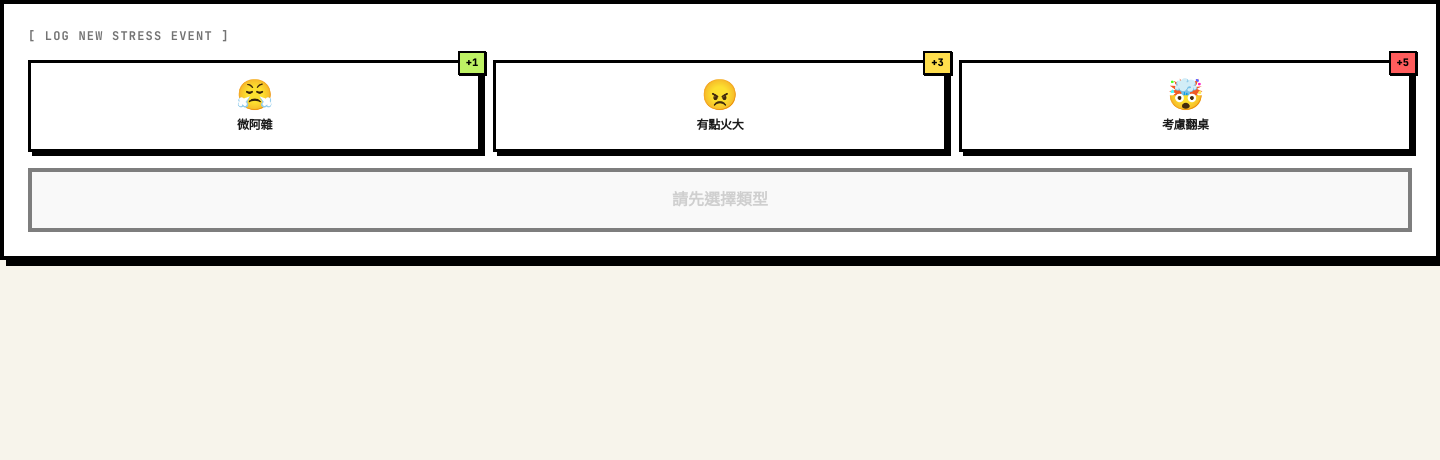
Test case: AddPointsPanel.vue › enables submit and shows examples when category is selected
Step 1. Click the button with id "add-points-minor" → [255, 106], box [28,60,481,152]
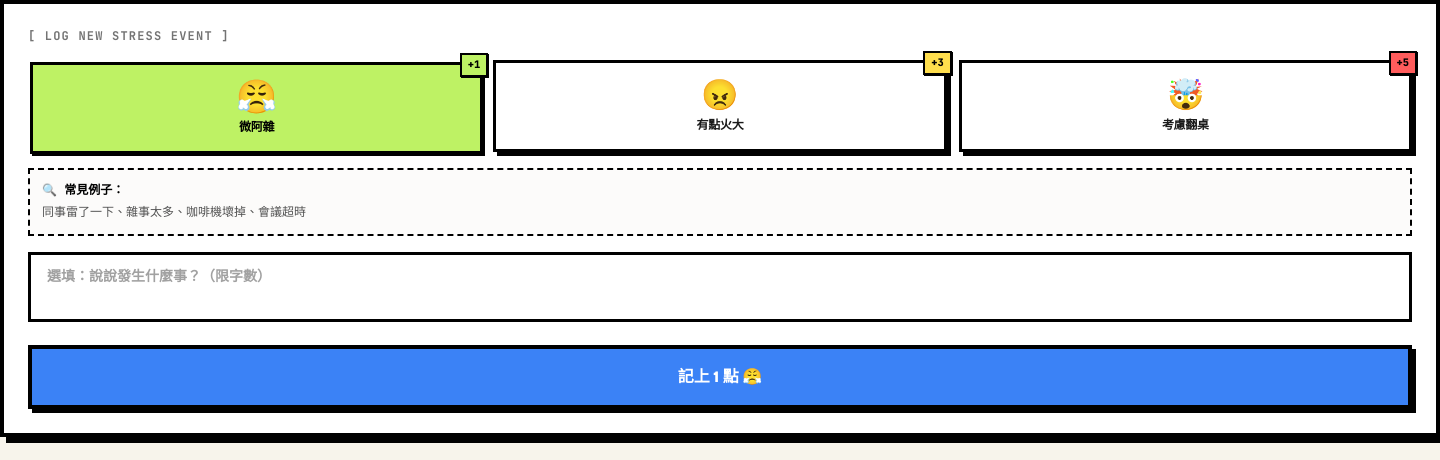
expect the button with id "submit-points-btn" is enabled: met, box [28,344,1412,408]
expect the text "常見例子：" is shown: met, box [42,182,124,198]
